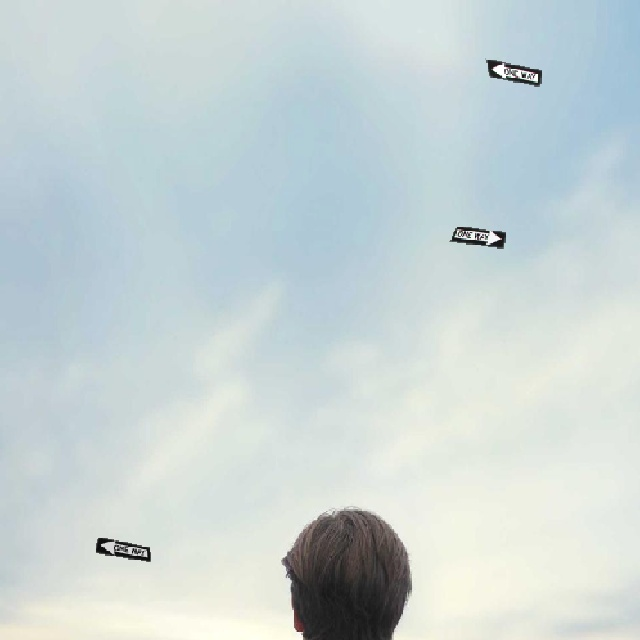ONE_WAY_ left: (484, 57, 541, 85), (93, 535, 150, 561)
ONE_WAY_ right: (448, 224, 505, 247)
